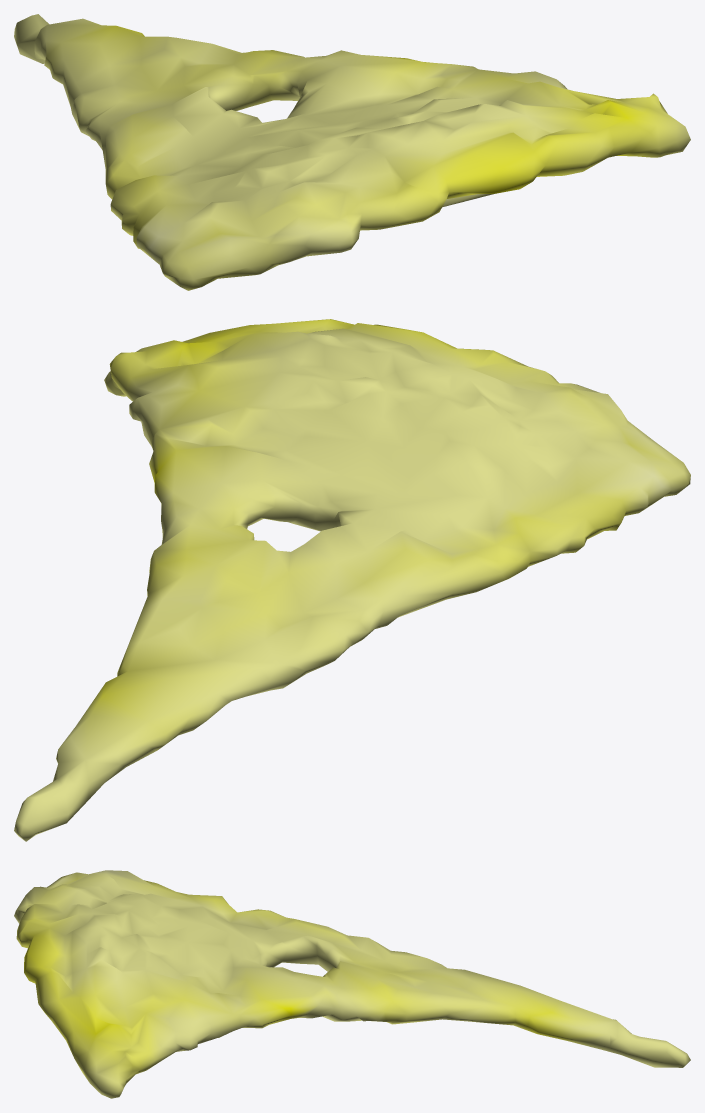
The picture shows the model from 3 angles, top to bottom: view 1: azimuth 30°, elevation 25°; view 2: azimuth 150°, elevation 25°; view 3: azimuth 270°, elevation 25°; orthographic projection. The views are drawn at different scales.
Parts seen in each view (by area): view 1: LOD 2_12822544702743451033_820756dedd5b3434c8e6bed8ae6a193b; view 2: LOD 2_12822544702743451033_820756dedd5b3434c8e6bed8ae6a193b; view 3: LOD 2_12822544702743451033_820756dedd5b3434c8e6bed8ae6a193b.
Part boxes in pixels (x1=…): LOD 2_12822544702743451033_820756dedd5b3434c8e6bed8ae6a193b: x1=14, y1=14, x2=690, y2=290; LOD 2_12822544702743451033_820756dedd5b3434c8e6bed8ae6a193b: x1=14, y1=319, x2=690, y2=841; LOD 2_12822544702743451033_820756dedd5b3434c8e6bed8ae6a193b: x1=14, y1=870, x2=690, y2=1098.
Size of the model in its own units: 3.1 by 1.07 by 4.35.
